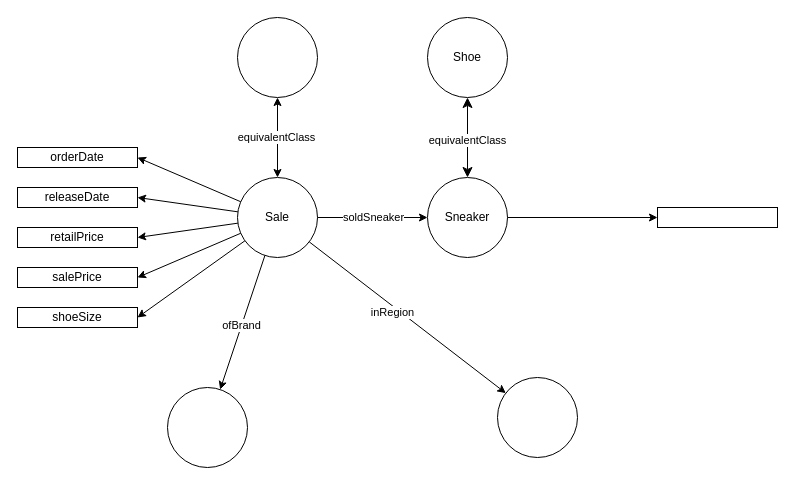
The diagram is 795 pixels wide and 485 high, and some of its shapes have lost their labels. Each missing label, with the centre of its shape:
Brand: pixel 207 427
Order: pixel 277 57
Region: pixel 537 417
sneakerName: pixel 717 217
